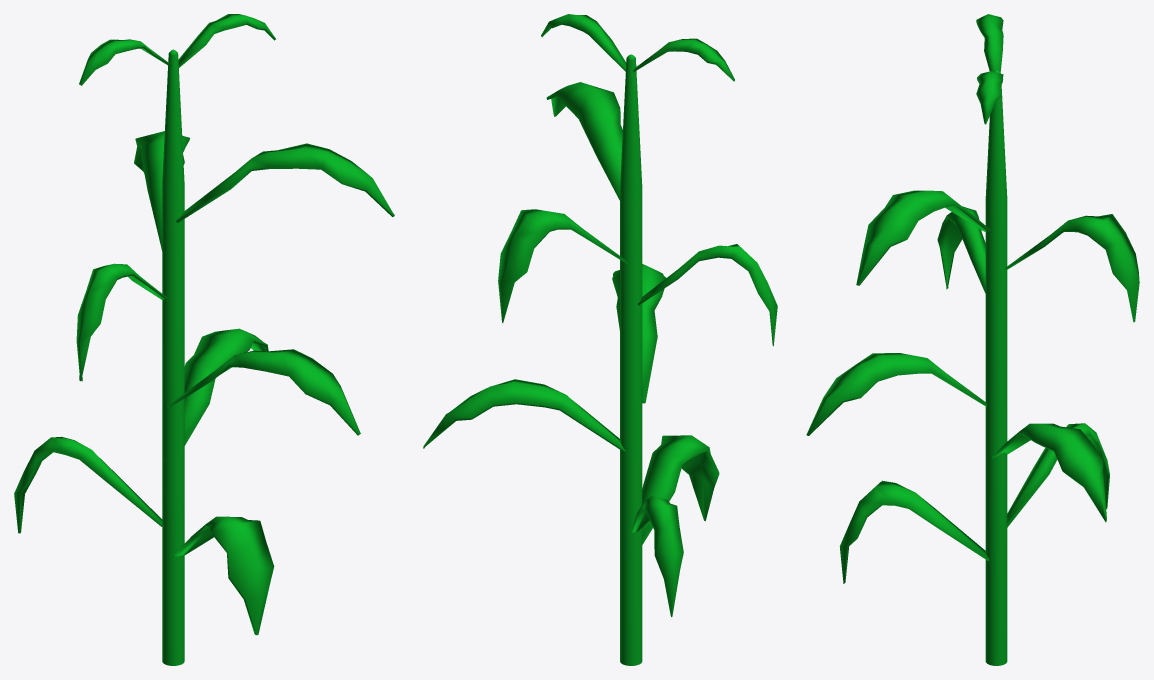
File: CornPlantMiddleStage.fbx
The picture shows the model from 3 angles, left to right: view 1: azimuth 30°, elevation 25°; view 2: azimuth 150°, elevation 25°; view 3: azimuth 270°, elevation 25°; orthographic projection. The views are drawn at different scales.
Visible parts, largest first — view 1: Cylinder; view 2: Cylinder; view 3: Cylinder.
Part boxes in pixels (bbox=[...]): Cylinder: bbox=[14, 14, 394, 665]; Cylinder: bbox=[423, 14, 777, 665]; Cylinder: bbox=[806, 14, 1139, 665].
Bounding box in the file's own units: 122 × 271 × 133.
